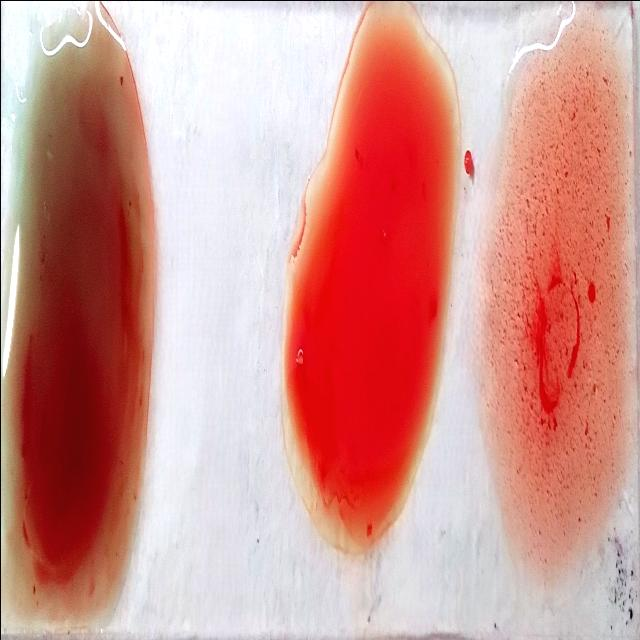D: (494, 15, 634, 555)
